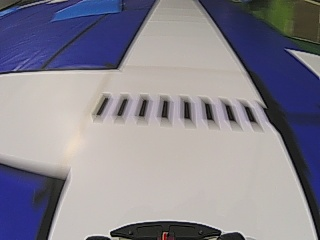CrossWalk: (90, 94, 258, 128)
